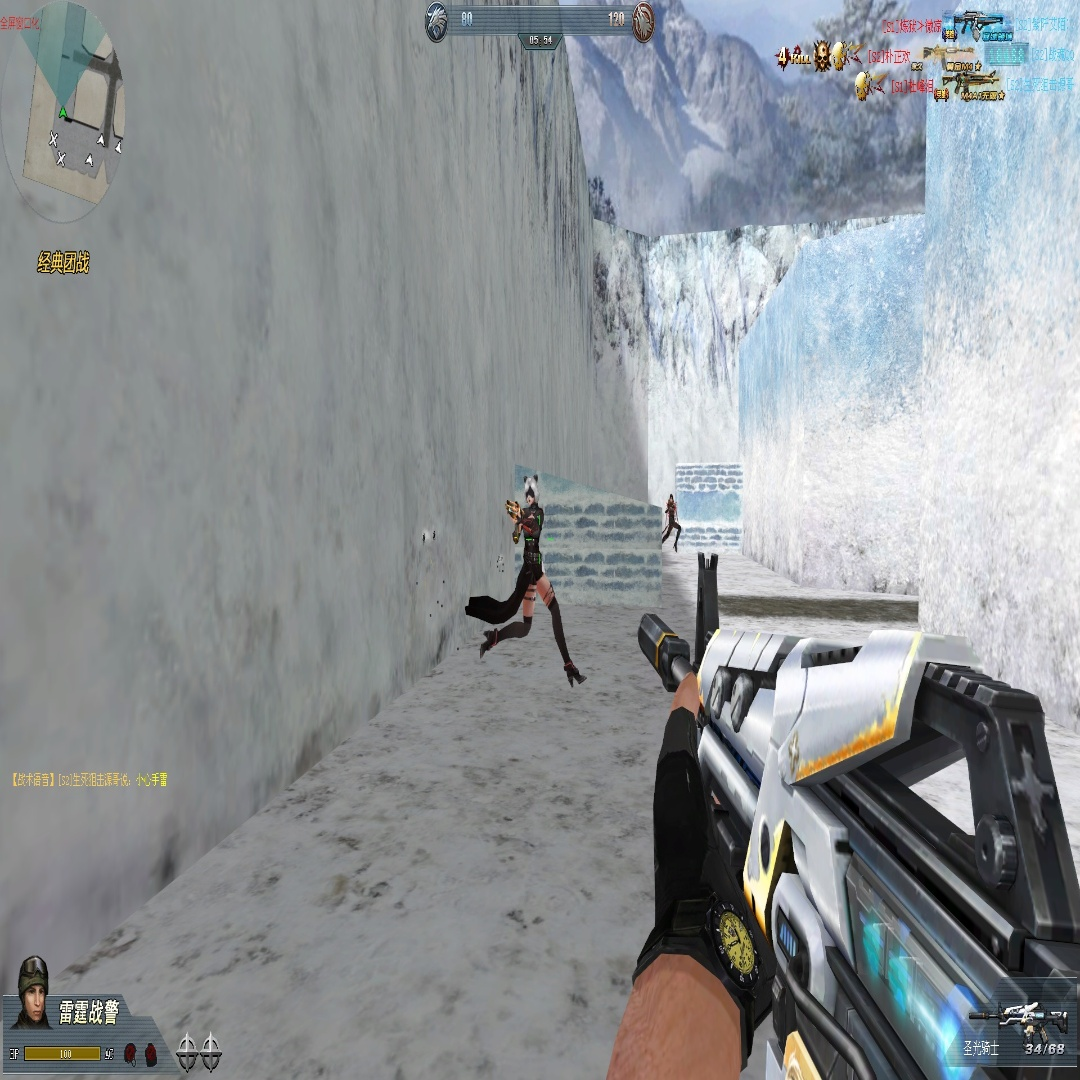head: (669, 494, 674, 503)
t: (506, 474, 585, 677), (660, 494, 683, 551)
